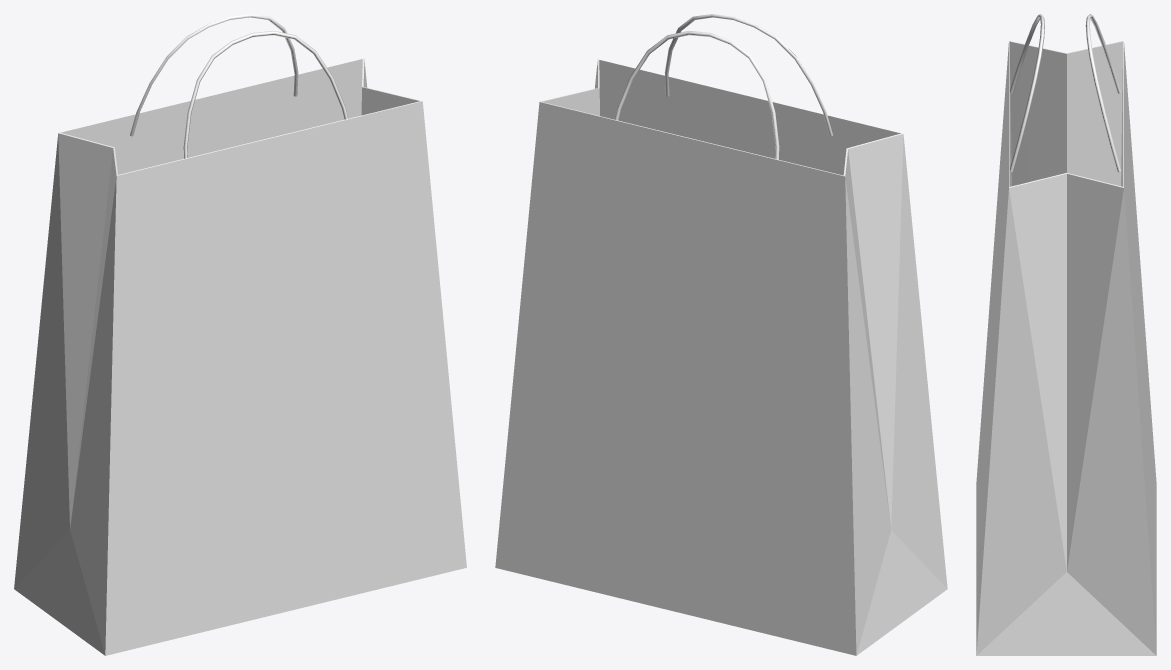
File: bag.fbx
3 views of the same model, side by side, from view 1: azimuth 30°, elevation 25°; view 2: azimuth 150°, elevation 25°; view 3: azimuth 270°, elevation 25° (orthographic).
Parts seen in each view (by area): view 1: pCube1, Arc001, Arc002; view 2: pCube1, Arc002, Arc001; view 3: pCube1, Arc001, Arc002.
Boxes of the visible parts, x1,y1,x2,y2 form: pCube1: (14,58,466,655); Arc001: (183,31,348,158); Arc002: (130,14,298,136); pCube1: (495,59,947,655); Arc002: (614,31,779,159); Arc001: (664,14,832,136); pCube1: (976,41,1156,655); Arc001: (1010,14,1044,172); Arc002: (1085,14,1121,172).
Bounding box in the file's own units: 17.19 × 7.52 × 25.17.
